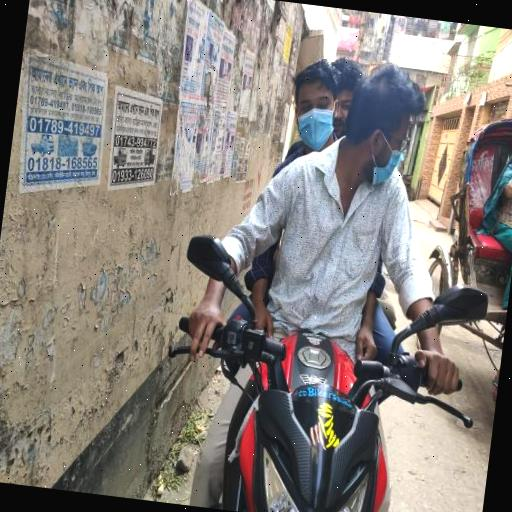no helmet: (330, 86, 444, 251)
triple riding: (167, 38, 480, 512)
